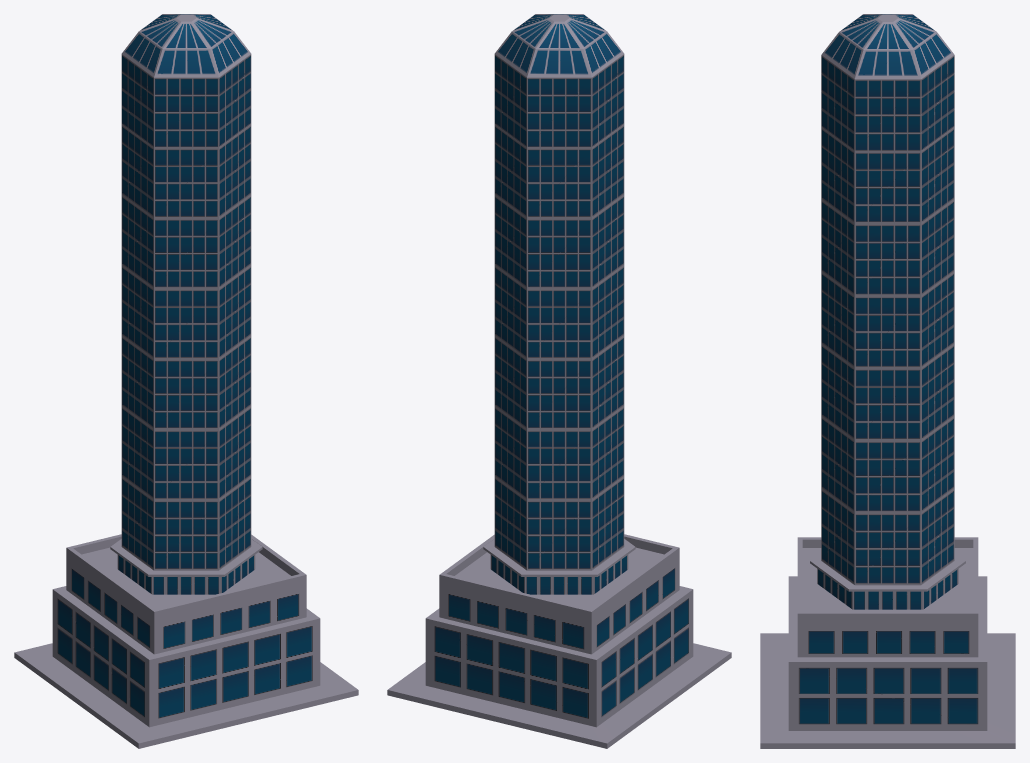
The model's file is Skycraper004.fbx.
3 renders of one model, left to right at view 1: azimuth 30°, elevation 25°; view 2: azimuth 150°, elevation 25°; view 3: azimuth 270°, elevation 25°, orthographic. The views are drawn at different scales.
Visible parts, largest first — view 1: SkyscraperTop, SkyscraperBottom; view 2: SkyscraperTop, SkyscraperBottom; view 3: SkyscraperTop, SkyscraperBottom.
Part boxes in pixels (x1=…): SkyscraperTop: x1=110, y1=14, x2=262, y2=594; SkyscraperBottom: x1=14, y1=534, x2=358, y2=748; SkyscraperTop: x1=483, y1=14, x2=635, y2=594; SkyscraperBottom: x1=387, y1=534, x2=731, y2=748; SkyscraperTop: x1=810, y1=14, x2=965, y2=609; SkyscraperBottom: x1=760, y1=537, x2=1015, y2=748.
Size of the model in its own units: 390 by 1118 by 383.
2 materials, 2 textured.
